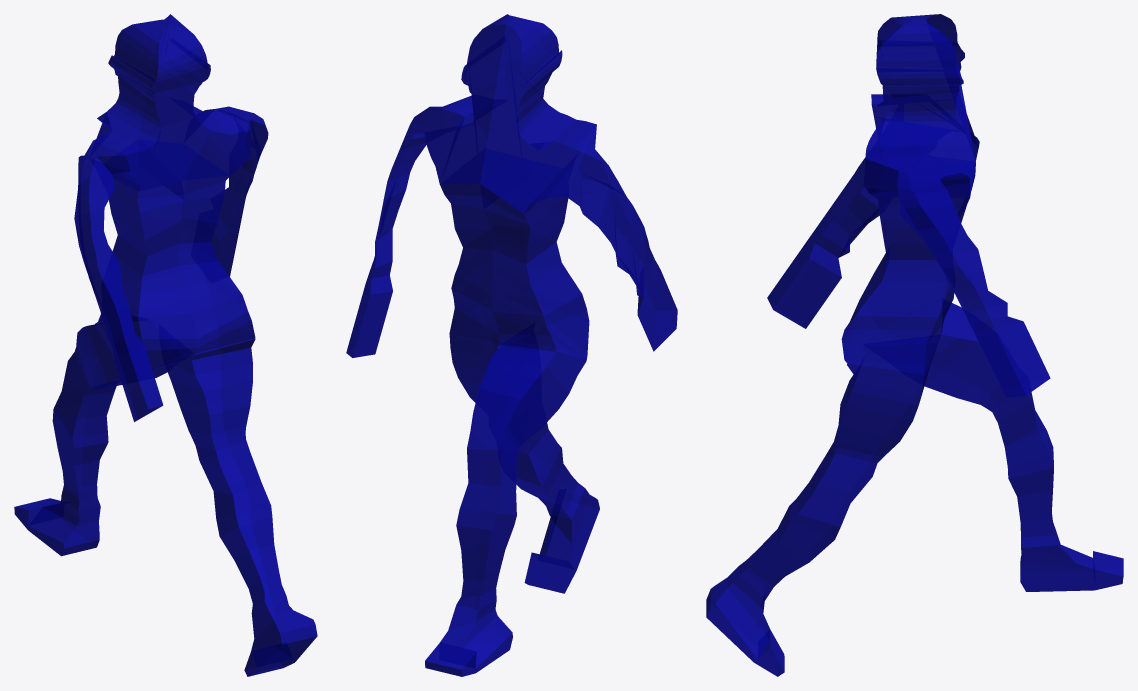
File: woman_000025.obj
The picture shows the model from 3 angles, left to right: view 1: azimuth 30°, elevation 25°; view 2: azimuth 150°, elevation 25°; view 3: azimuth 270°, elevation 25°; orthographic projection. The views are drawn at different scales.
Parts seen in each view (by area): view 1: Cube_Cube.001; view 2: Cube_Cube.001; view 3: Cube_Cube.001.
Boxes of the visible parts, x1,y1,x2,y2 form: Cube_Cube.001: (14, 14, 317, 676); Cube_Cube.001: (346, 14, 677, 676); Cube_Cube.001: (706, 14, 1123, 676).
Bounding box in the file's own units: 3.62 × 10 × 5.98.
